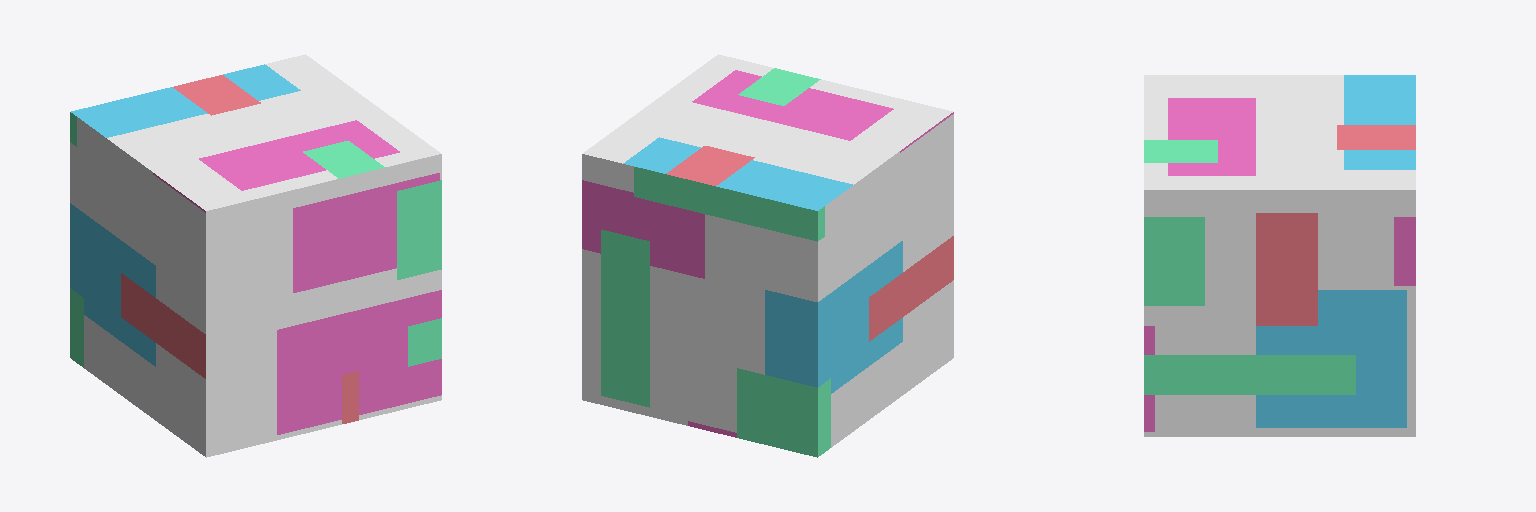
3 views of the same model, side by side, from view 1: azimuth 30°, elevation 25°; view 2: azimuth 150°, elevation 25°; view 3: azimuth 270°, elevation 25° (orthographic).
Visible parts, largest first — view 1: Cube; view 2: Cube; view 3: Cube.
Part boxes in pixels (left/top/right/bottom): Cube: left=70, top=54, right=441, bottom=457; Cube: left=582, top=54, right=953, bottom=457; Cube: left=1144, top=75, right=1415, bottom=436.
Size of the model in its own units: 2 by 2 by 2.
1 materials, 1 textured.